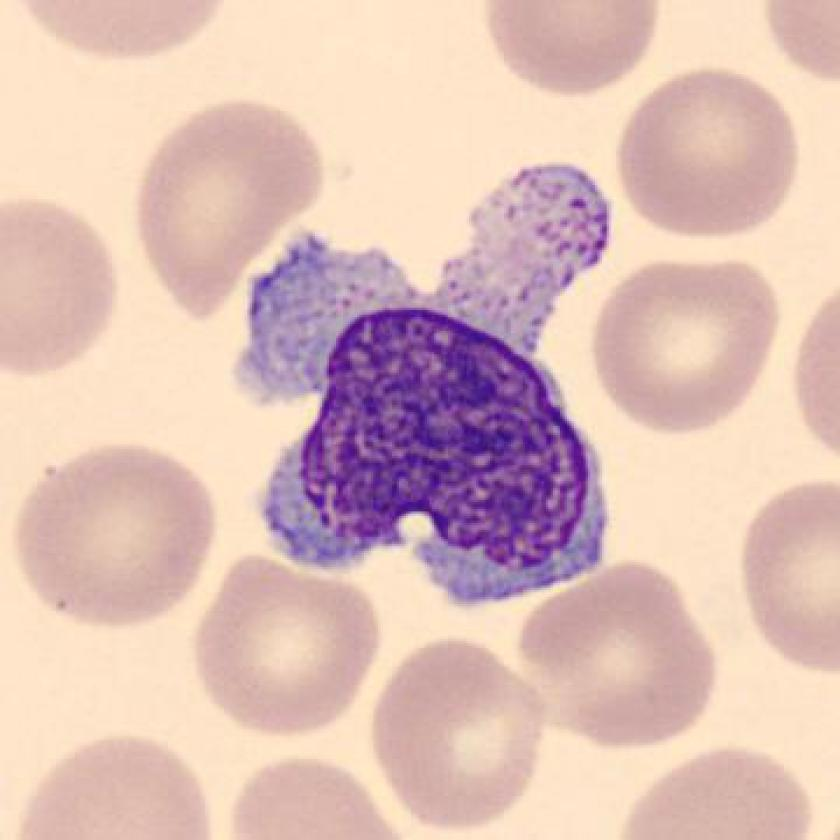monocyte: (214, 154, 648, 621)
